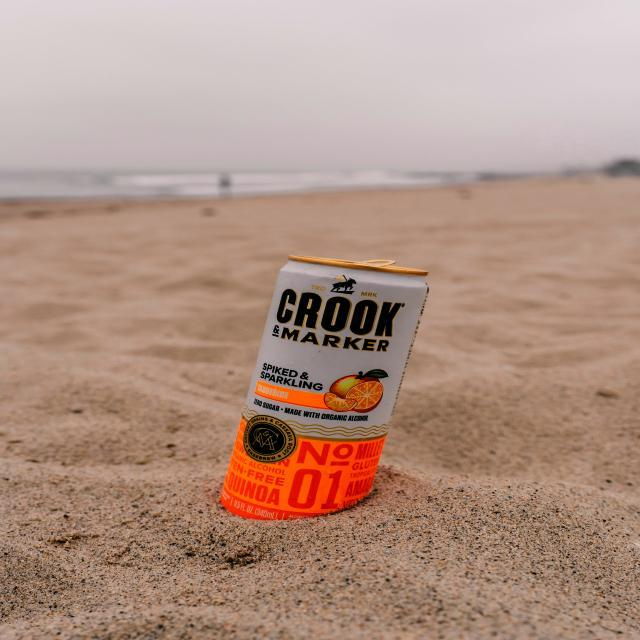can: (192, 216, 469, 547)
